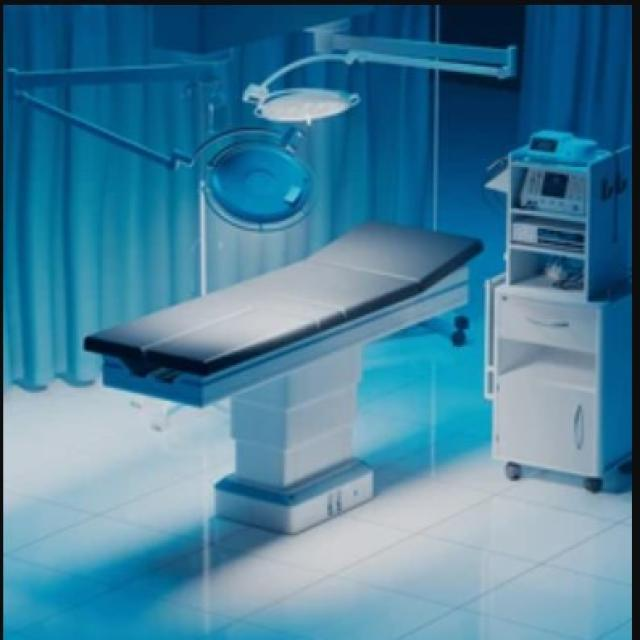Monitor: (497, 150, 600, 234)
bed: (82, 217, 482, 534)
